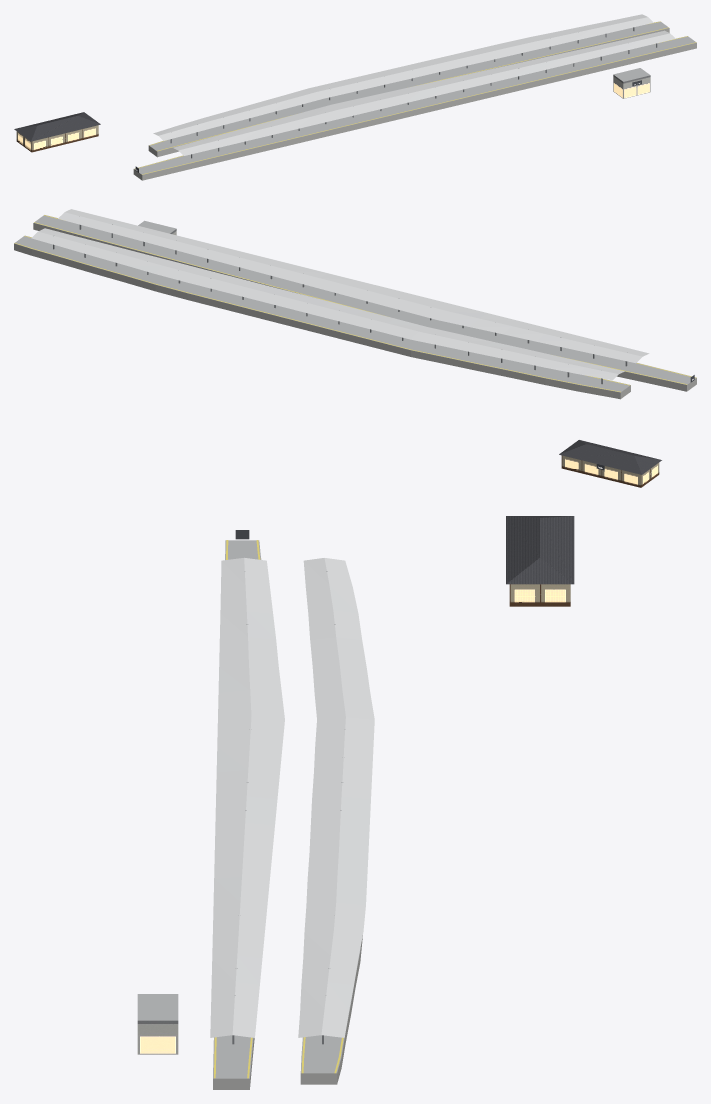
Rendered from uguisudani_station.glb.
3 renders of one model, top to bottom at view 1: azimuth 30°, elevation 25°; view 2: azimuth 150°, elevation 25°; view 3: azimuth 270°, elevation 25°, orthographic. The views are drawn at different scales.
Visible parts, largest first — view 1: UG_Station; view 2: UG_Station; view 3: UG_Station.
Part boxes in pixels (x1,y1,x2,y2): UG_Station: (14,14,696,180); UG_Station: (14,209,696,487); UG_Station: (137,516,574,1089).
Bounding box in the file's own units: 218 × 10.9 × 69.75.
11 materials, 3 textured.
